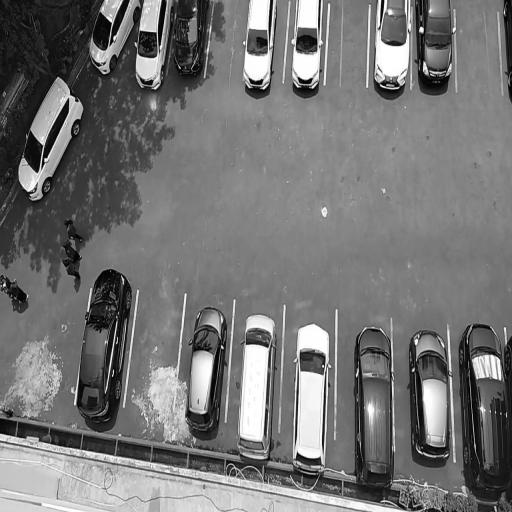Car: (458, 318, 511, 512), (16, 67, 84, 217), (77, 262, 133, 434), (350, 320, 400, 492), (406, 313, 457, 479), (288, 314, 334, 477), (236, 306, 277, 463), (186, 298, 230, 434), (85, 0, 136, 87), (372, 0, 413, 105), (417, 0, 454, 106), (130, 0, 170, 97), (287, 0, 326, 99), (167, 0, 206, 90), (241, 0, 275, 95), (504, 0, 512, 99)
Space Available: (138, 277, 173, 424), (460, 0, 498, 102), (331, 0, 366, 100), (213, 0, 240, 84)
